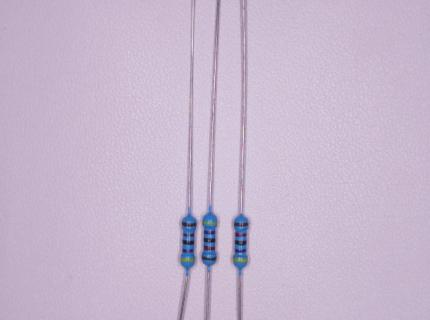Black band: (182, 240, 194, 245), (203, 238, 215, 242), (182, 249, 194, 253)
Brown band: (182, 222, 197, 227), (234, 222, 249, 227), (202, 256, 217, 261), (235, 240, 247, 245)
Red band: (235, 232, 247, 237), (204, 246, 215, 251), (183, 233, 195, 237)
Violet band: (204, 230, 215, 235), (235, 249, 247, 253)
Yellow band: (202, 220, 217, 225), (180, 257, 195, 262), (233, 258, 248, 263)
